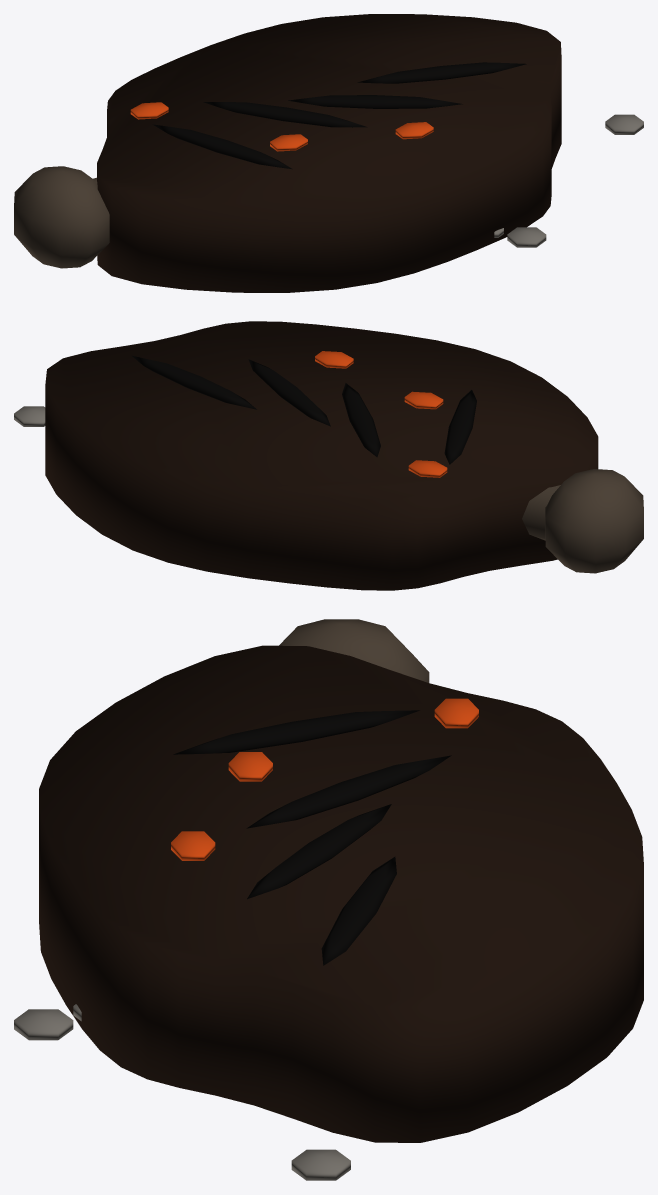
File: fleisch_verbrannt.glb
3 renders of one model, top to bottom at view 1: azimuth 30°, elevation 25°; view 2: azimuth 150°, elevation 25°; view 3: azimuth 270°, elevation 25°, orthographic. The views are drawn at different scales.
Parts seen in each view (by area): view 1: Cylinder, Sphere.007, Sphere.002, Sphere.003, Sphere.001, Sphere, Sphere.013, Sphere.008, Sphere.005, Sphere.004, Sphere.006; view 2: Cylinder, Sphere.007, Sphere.003, Sphere.002, Sphere, Sphere.001, r, Sphere.008, Sphere.006, Sphere.005, Sphere.004; view 3: Cylinder, Sphere.007, Sphere, Sphere.001, Sphere.002, Sphere.003, Sphere.008, Sphere.013, Sphere.005, Sphere.004, Sphere.006.
Boxes of the visible parts, box(x1,y1,x2,y2) form: Cylinder: box(97, 14, 561, 292); Sphere.007: box(14, 166, 109, 268); Sphere.002: box(288, 95, 462, 108); Sphere.003: box(357, 62, 526, 83); Sphere.001: box(203, 102, 367, 127); Sphere: box(152, 124, 292, 169); Sphere.013: box(507, 227, 546, 247); Sphere.008: box(605, 114, 643, 134); Sphere.005: box(130, 102, 168, 119); Sphere.004: box(395, 122, 433, 139); Sphere.006: box(270, 134, 307, 151); Cylinder: box(45, 321, 598, 590); Sphere.007: box(545, 469, 643, 573); Sphere.003: box(132, 355, 256, 409); Sphere.002: box(248, 359, 330, 426); Sphere: box(444, 390, 476, 464); Sphere.001: box(342, 383, 380, 457); r: box(522, 485, 560, 540); Sphere.008: box(14, 406, 45, 426); Sphere.006: box(404, 391, 443, 409); Sphere.005: box(408, 460, 447, 477); Sphere.004: box(315, 351, 353, 368); Cylinder: box(39, 645, 643, 1142); Sphere.007: box(279, 619, 429, 682); Sphere: box(173, 710, 419, 754); Sphere.001: box(246, 755, 451, 828); Sphere.002: box(247, 804, 391, 899); Sphere.003: box(321, 856, 396, 965); Sphere.008: box(291, 1149, 350, 1180); Sphere.013: box(14, 1009, 73, 1040); Sphere.005: box(434, 698, 478, 728); Sphere.004: box(171, 831, 215, 860); Sphere.006: box(228, 752, 272, 781).
Bounding box in the file's own units: 0.2512 × 0.0388 × 0.1475.
